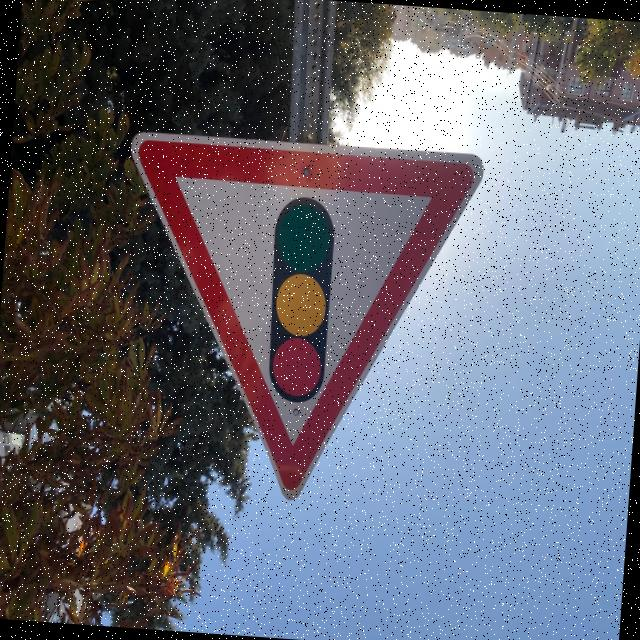light_traffic: (109, 128, 488, 516)
